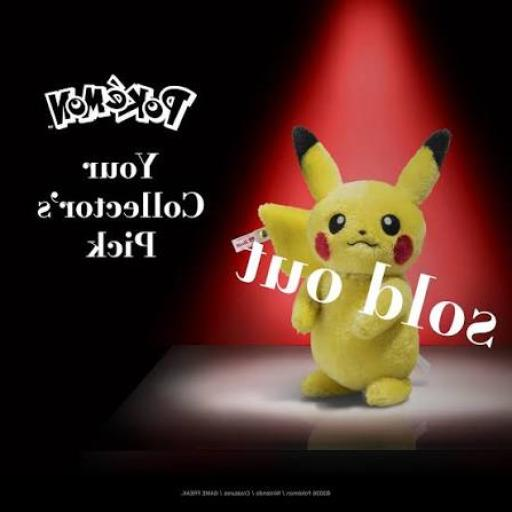Pikachu: (260, 127, 450, 409)
